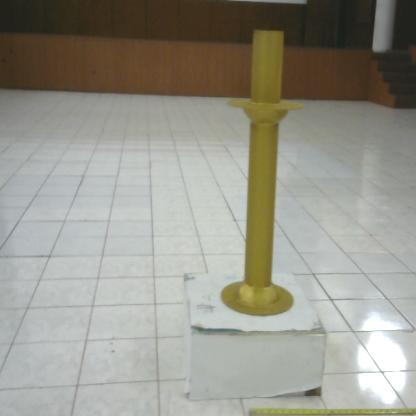pole: (216, 22, 309, 324)
